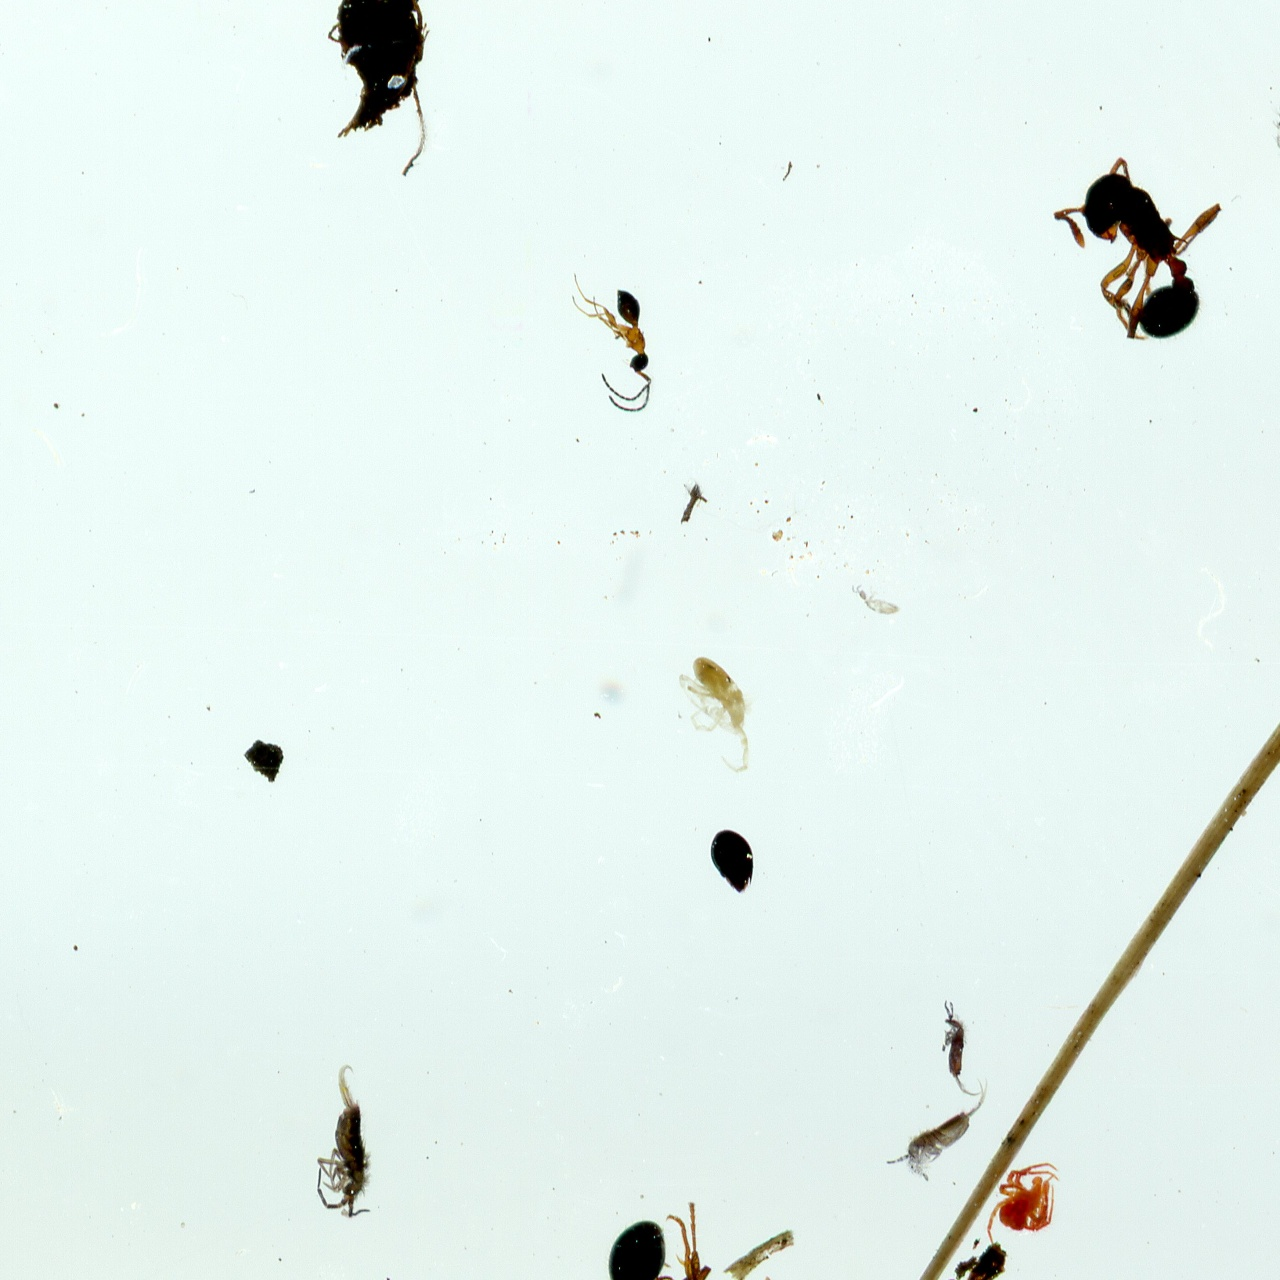arthropod: (1046, 152, 1228, 354), (873, 1071, 1024, 1203), (584, 1198, 782, 1280), (568, 271, 661, 424), (308, 1057, 377, 1225), (672, 654, 756, 776), (985, 1158, 1063, 1245), (937, 998, 982, 1098), (843, 578, 917, 627), (706, 828, 757, 896), (1269, 40, 1280, 197)
